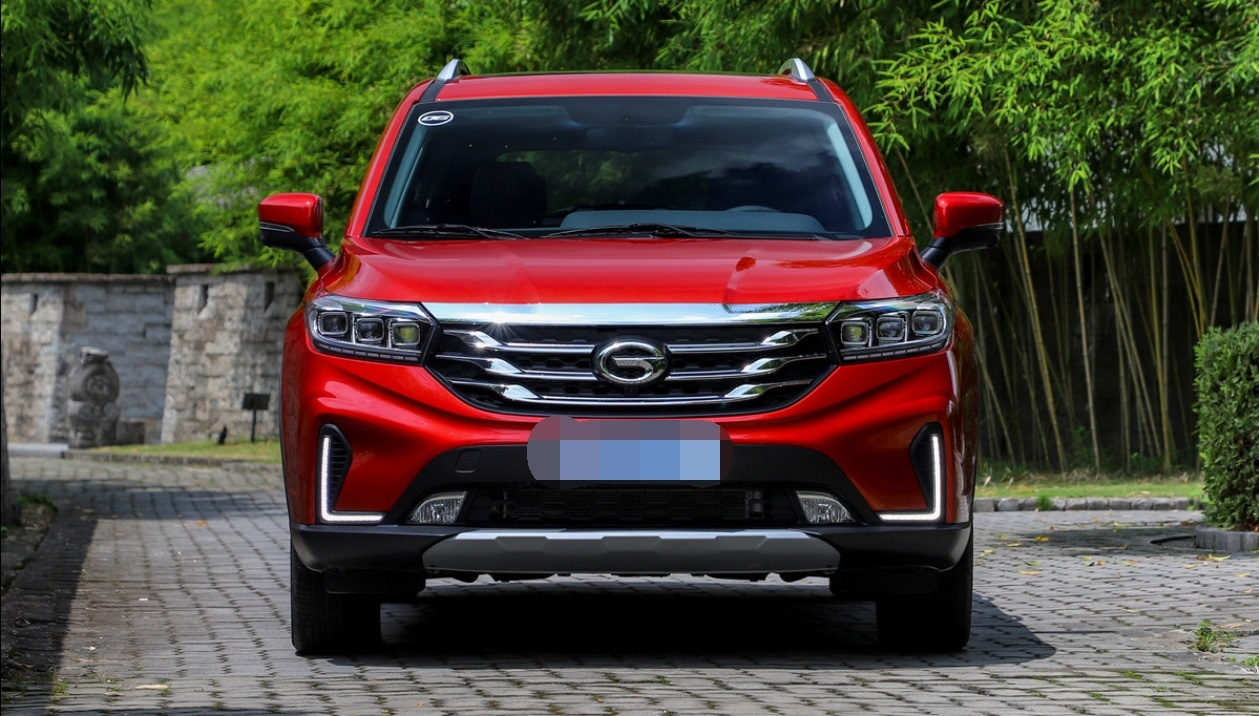SUV: (276, 50, 986, 641)
